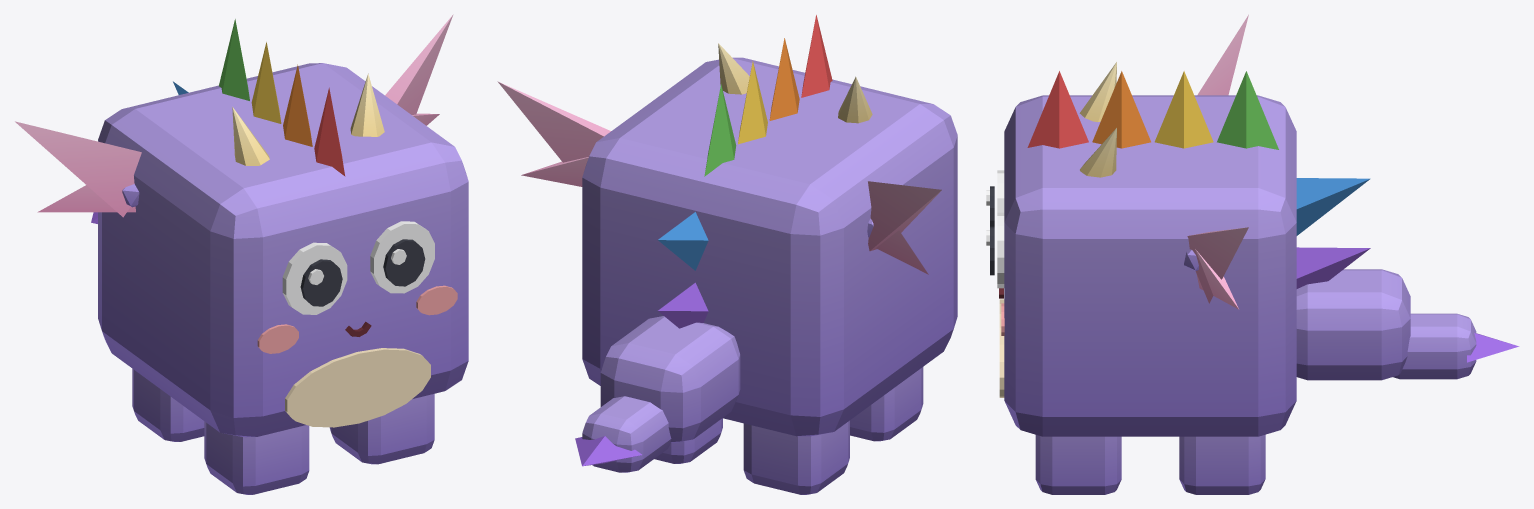
The model's file is dragon.glb.
3 renders of one model, left to right at view 1: azimuth 30°, elevation 25°; view 2: azimuth 150°, elevation 25°; view 3: azimuth 270°, elevation 25°, orthographic.
Visible parts, largest first — view 1: body, wing-right, leg-front-right, leg-front-left, leg-back-right, wing-left; view 2: body, leg-back-right, wing-left, wing-right, leg-front-right, leg-back-left; view 3: body, leg-back-left, leg-front-left, wing-left, wing-right.
Part boxes in pixels (x1,y1,x2,y2): body: [91, 19, 468, 437]; wing-right: [15, 121, 141, 217]; leg-front-right: [204, 421, 309, 494]; leg-front-left: [329, 394, 434, 464]; leg-back-right: [132, 369, 204, 441]; wing-left: [385, 14, 453, 125]; body: [575, 15, 957, 472]; leg-back-right: [743, 420, 849, 494]; wing-left: [497, 81, 610, 186]; wing-right: [867, 181, 941, 274]; leg-front-right: [850, 367, 923, 441]; leg-back-left: [654, 418, 722, 463]; body: [986, 62, 1519, 436]; leg-back-left: [1179, 434, 1265, 494]; leg-front-left: [1035, 435, 1121, 494]; wing-left: [1184, 227, 1248, 309]; wing-right: [1197, 14, 1248, 95].
Bounding box in the file's own units: 2.11 × 1.76 × 2.22.
1 material, 1 textured.
